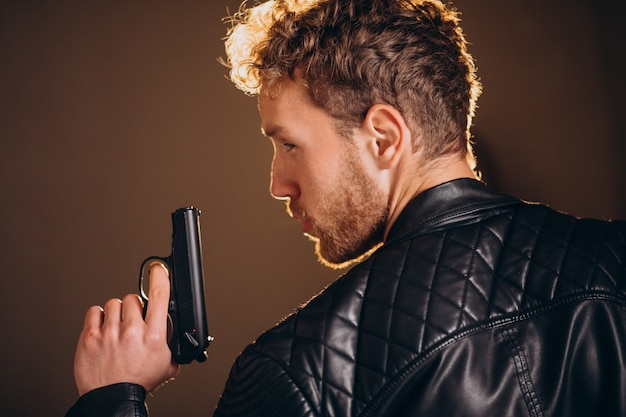gun: (137, 206, 211, 366)
